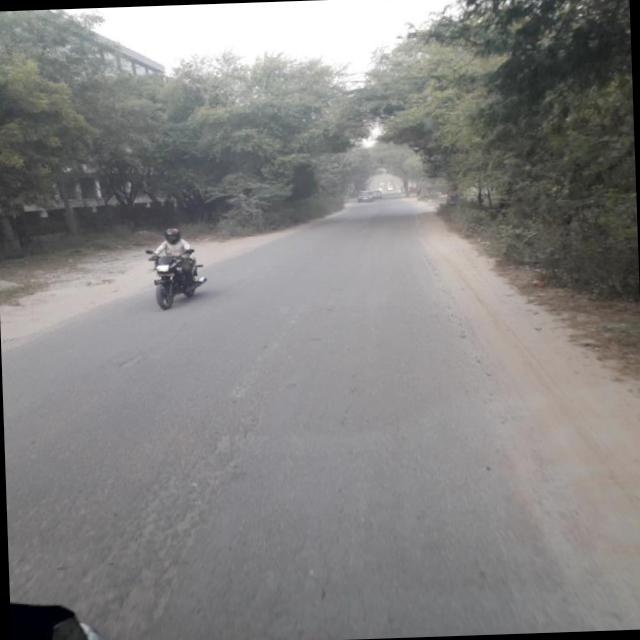crack: (58, 408, 249, 636)
